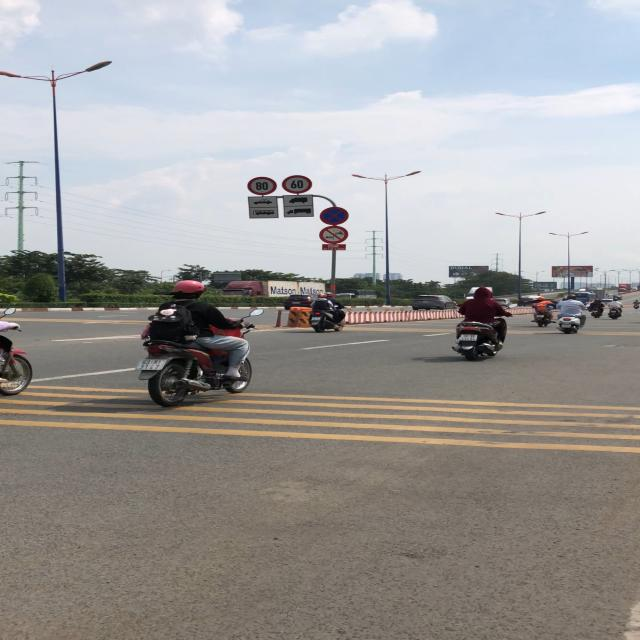Bien bao cam dung xe va do xe: (318, 206, 351, 225)
Bien bao toc do toi da cho phep: (282, 174, 314, 193), (246, 176, 277, 195)
